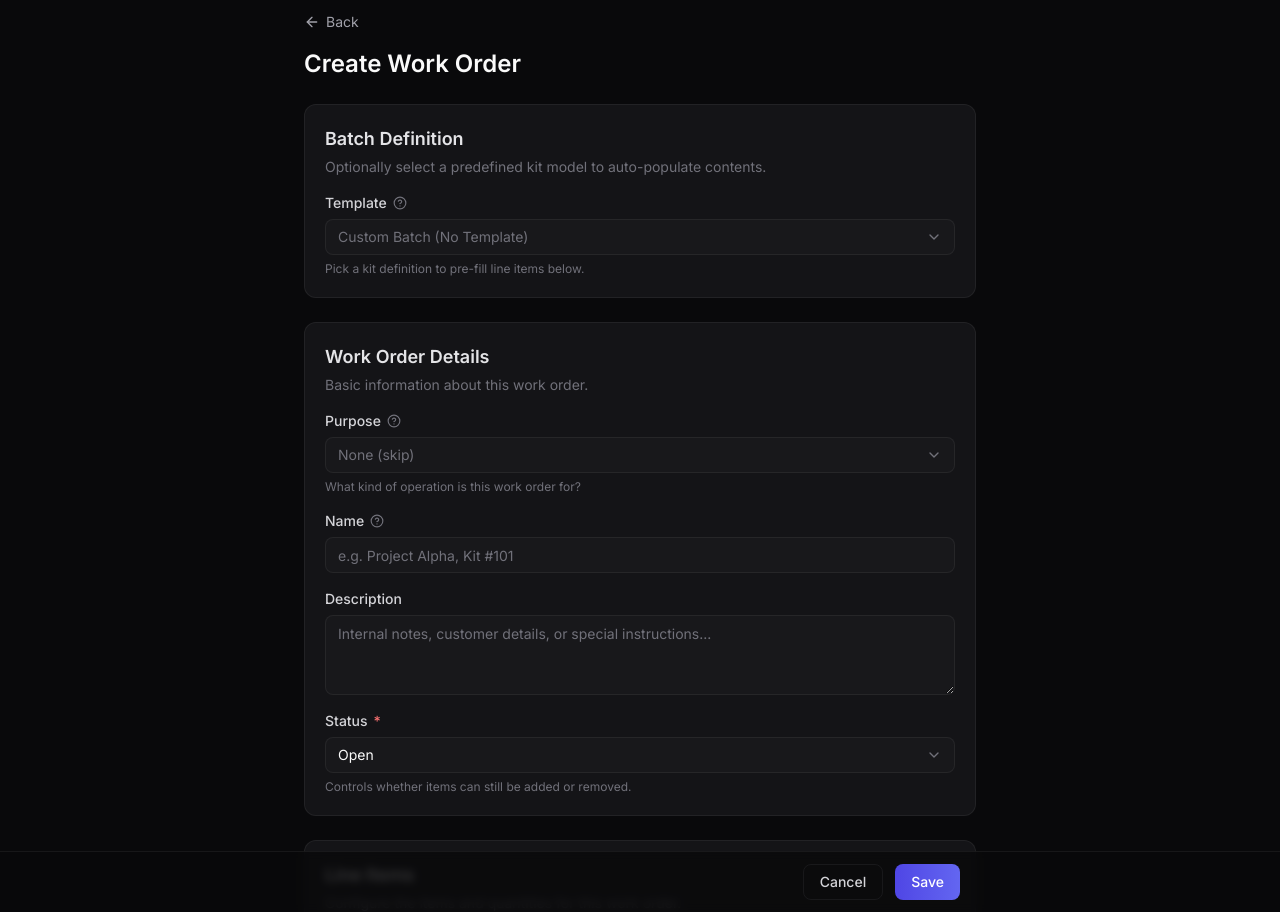
WorkOrderCreate › shows Purpose options when clicked
Click the dropdown "None (skip)": (376, 454) [325, 437, 955, 473]
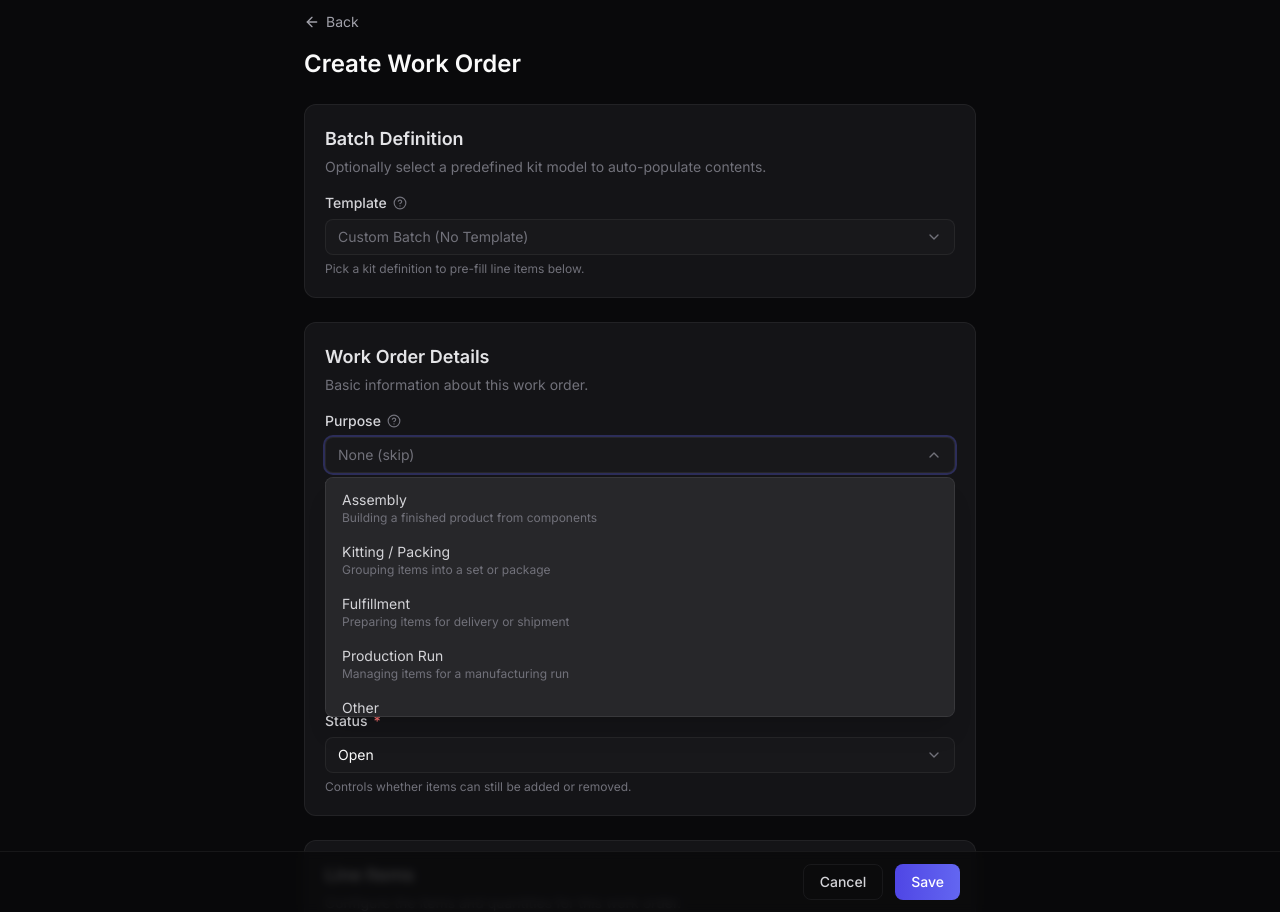
Check: the text "Assembly" is shown, box [342, 491, 407, 508]
Check: the text "Kitting / Packing" is shown, box [342, 543, 450, 560]
Check: the text "Fulfillment" is shown, box [342, 595, 410, 612]
